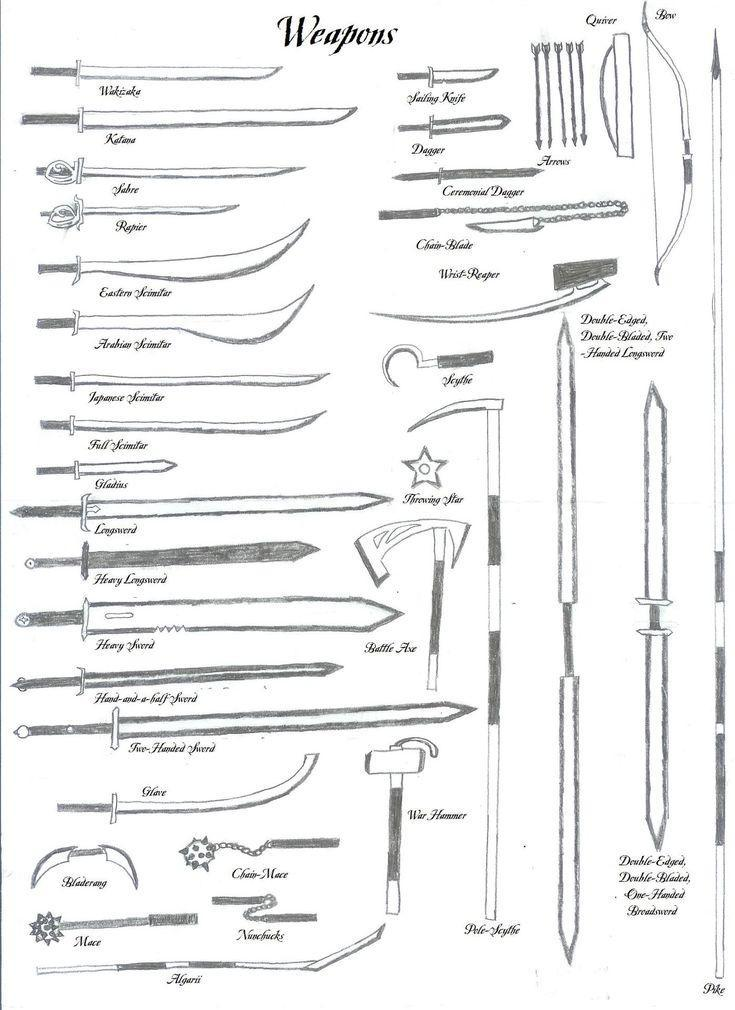espada: (55, 746, 336, 836), (19, 590, 388, 643), (536, 644, 592, 967), (16, 701, 457, 740), (540, 321, 597, 610), (630, 378, 683, 618), (22, 538, 322, 579), (4, 106, 358, 140), (8, 493, 388, 524), (44, 363, 316, 404), (3, 654, 343, 686), (633, 620, 680, 840), (10, 54, 289, 90), (20, 153, 310, 184), (42, 416, 321, 438), (35, 196, 252, 217)
facao: (50, 288, 313, 352), (40, 222, 310, 284)
foice: (388, 398, 521, 446)
